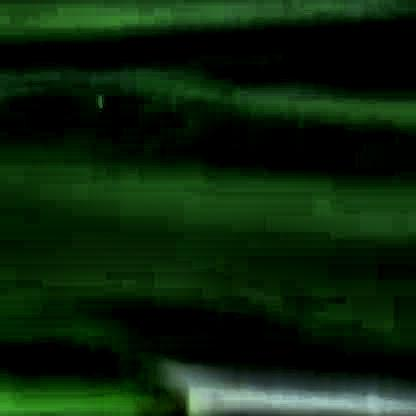golfball: (95, 86, 102, 102)
